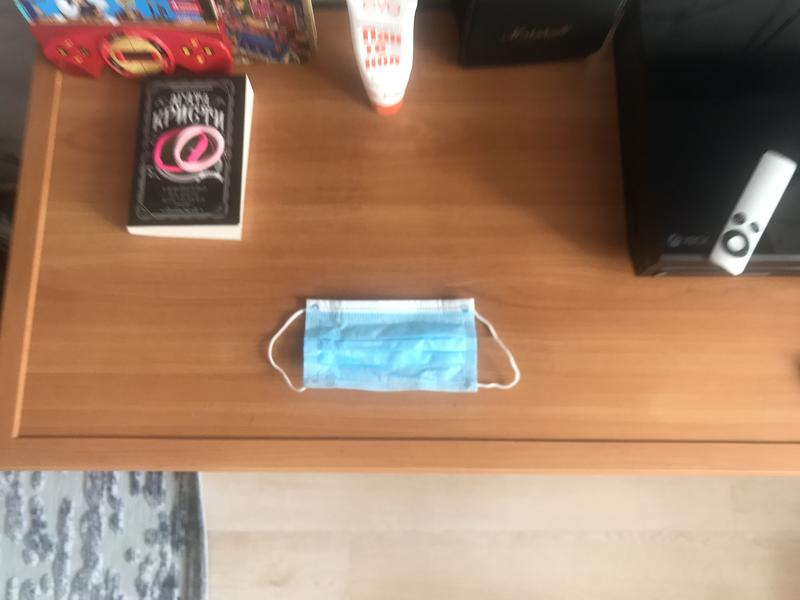medical_mask: (269, 298, 522, 392)
